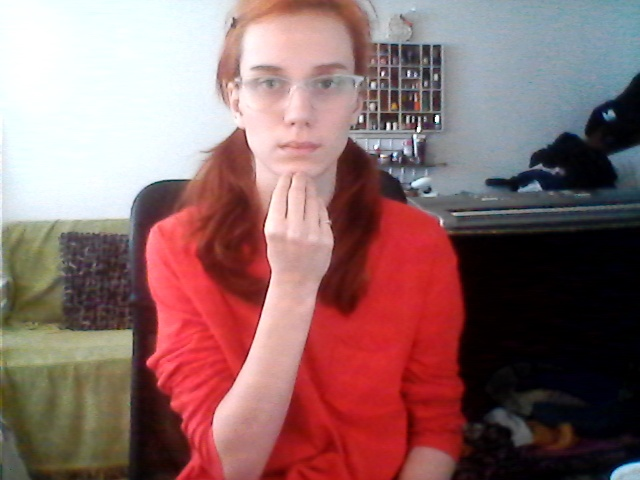c: (246, 160, 352, 288)
